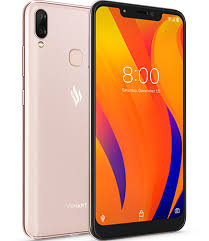vsmart: (86, 1, 188, 241), (20, 1, 91, 241)
